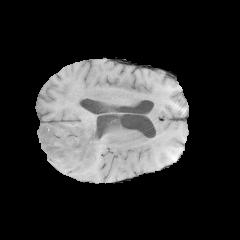glioma: (37, 122, 101, 171)
